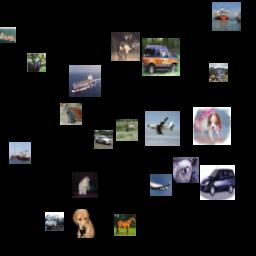airplane: (145, 111, 180, 146), (150, 174, 172, 196)
automobile: (142, 38, 180, 76), (200, 165, 235, 200), (94, 130, 113, 149)
bird: (27, 53, 46, 72)
cat: (60, 103, 82, 125)
deer: (111, 32, 140, 61), (116, 119, 138, 141)
dog: (193, 107, 231, 145), (70, 209, 99, 238), (72, 172, 98, 198), (173, 157, 199, 183)
ship: (69, 65, 101, 97), (212, 2, 241, 31), (9, 142, 31, 164), (0, 27, 16, 43)
truck: (209, 63, 228, 82), (45, 212, 64, 231)
